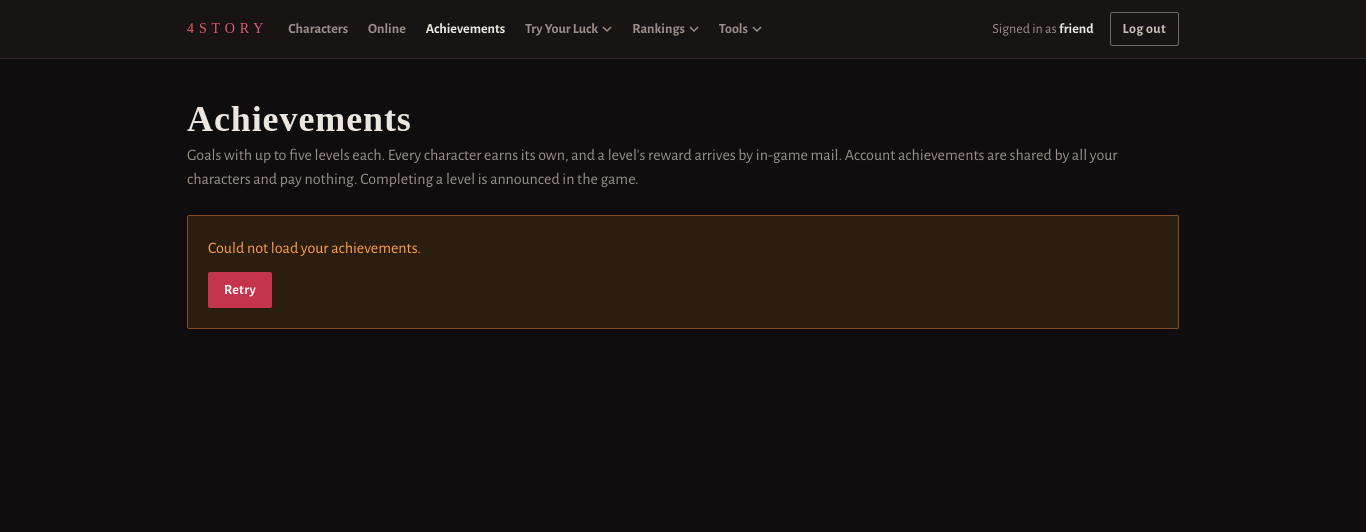
achievements page › offers a retry when loading fails
Expected: the text "Could not load your achievements." is shown, x1=208 y1=236 x2=421 y2=260
Click the button "Retry" at (240, 290), box x1=208 y1=272 x2=272 y2=308
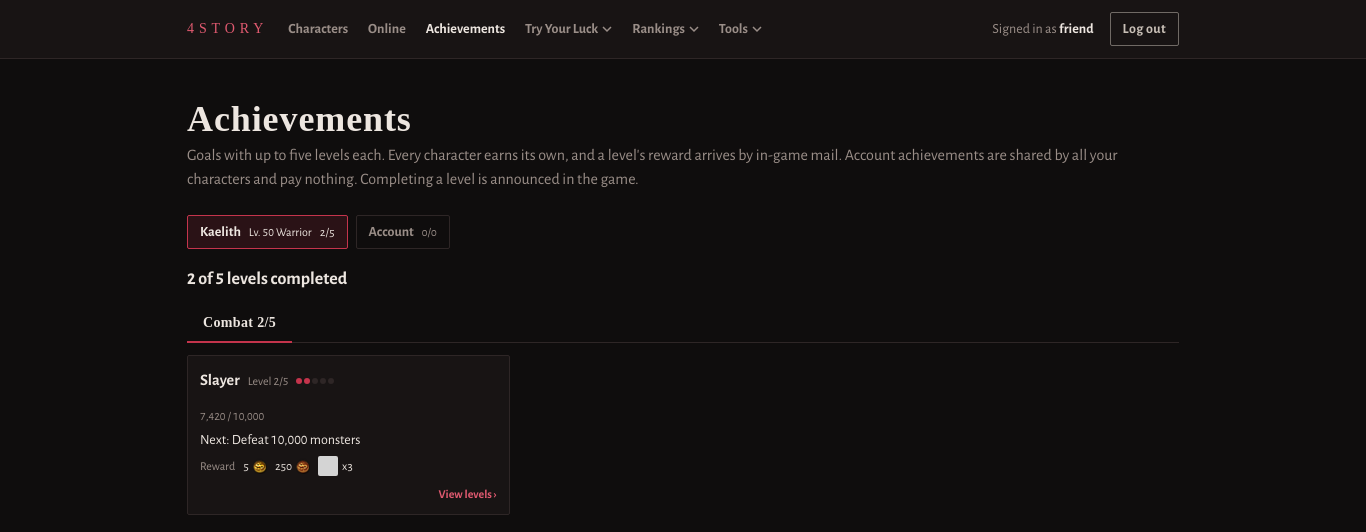
Now the text "2 of 5 levels completed" is shown, box x1=187 y1=270 x2=347 y2=288
